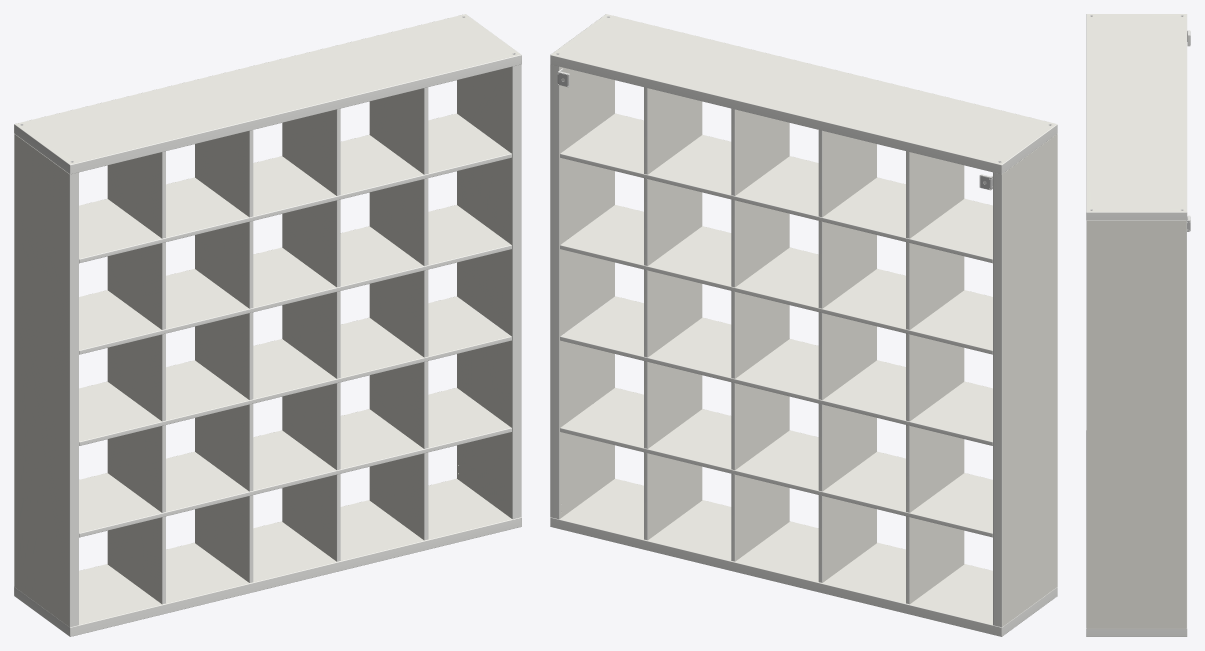
File: 09 - KALLAX Shelving unit - white 182x182 cm.glb
The picture shows the model from 3 angles, left to right: view 1: azimuth 30°, elevation 25°; view 2: azimuth 150°, elevation 25°; view 3: azimuth 270°, elevation 25°; orthographic projection. The views are drawn at different scales.
Parts seen in each view (by area): view 1: Mesh_0; view 2: Mesh_0; view 3: Mesh_0.
Boxes of the visible parts, bbox=[...] form: Mesh_0: bbox=[14, 14, 521, 636]; Mesh_0: bbox=[550, 14, 1057, 636]; Mesh_0: bbox=[1086, 14, 1190, 636].
Bounding box in the file's own units: 1.82 × 1.82 × 0.4051.
Materials: 1 (1 with a texture image).
